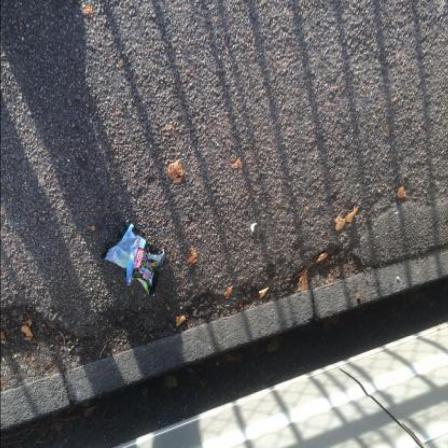Plastic bag - wrapper: (100, 219, 168, 297)
